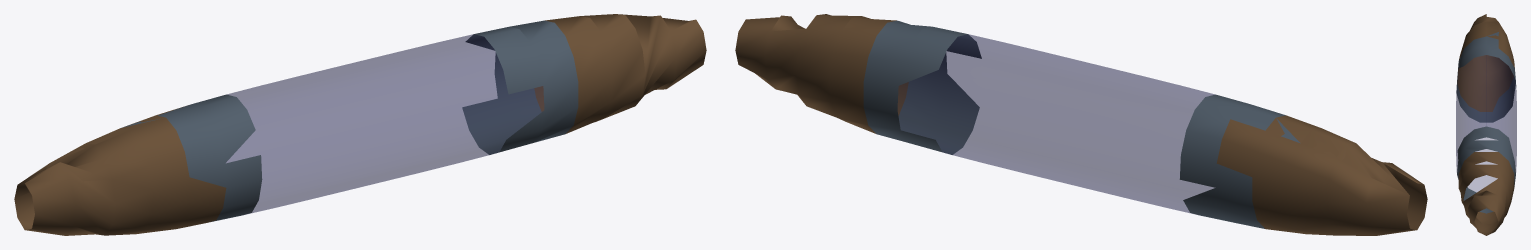
The model's file is ftl_hull_full.obj.
The picture shows the model from 3 angles, left to right: view 1: azimuth 30°, elevation 25°; view 2: azimuth 150°, elevation 25°; view 3: azimuth 270°, elevation 25°; orthographic projection. The views are drawn at different scales.
Size of the model in its own units: 300 by 49.45 by 39.78.
